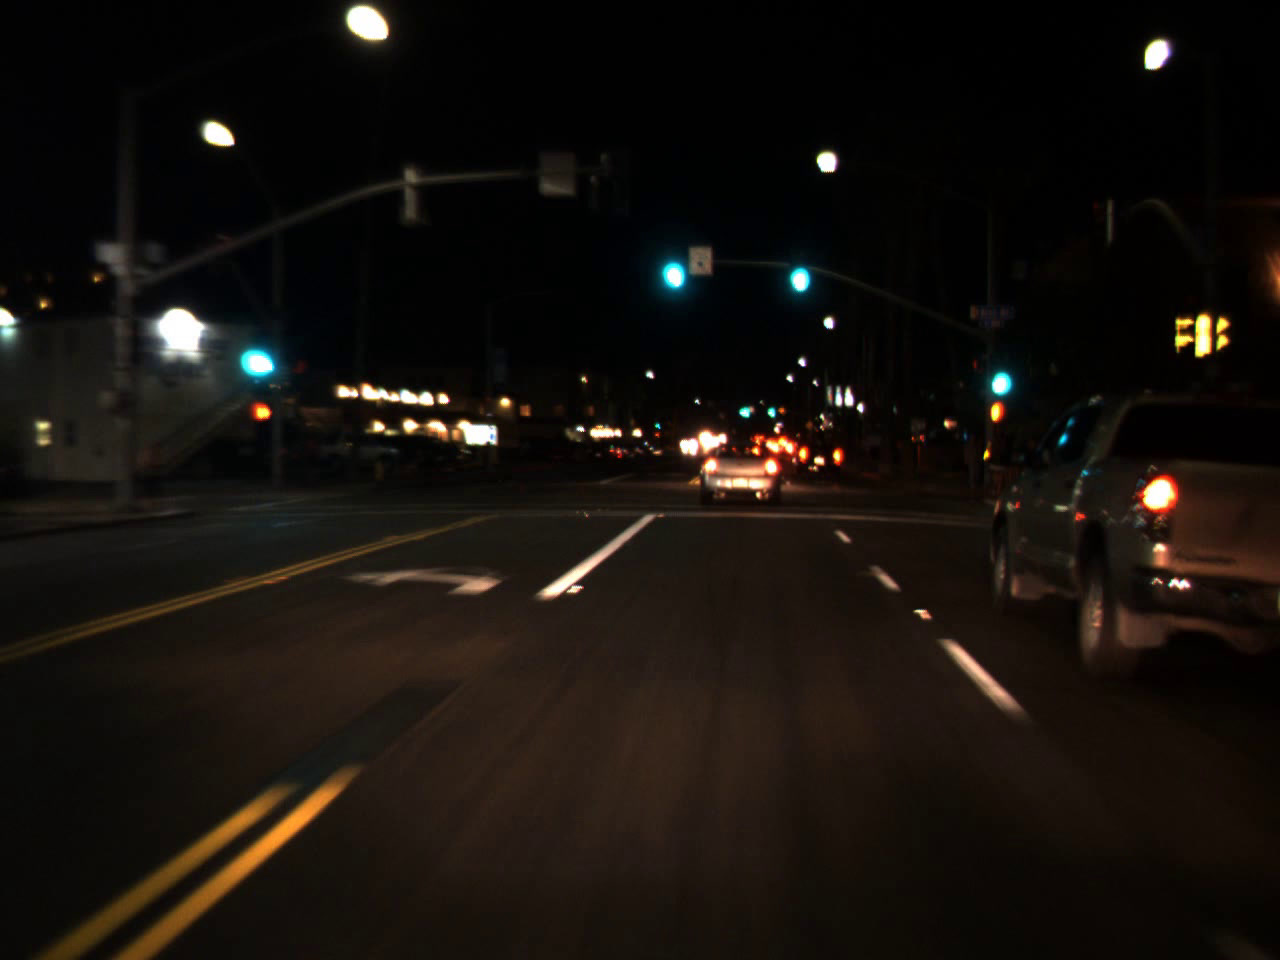go: (229, 311, 281, 389), (652, 228, 689, 301), (982, 340, 1016, 406), (782, 237, 814, 301), (736, 399, 750, 417), (765, 399, 775, 417), (654, 418, 661, 430)
